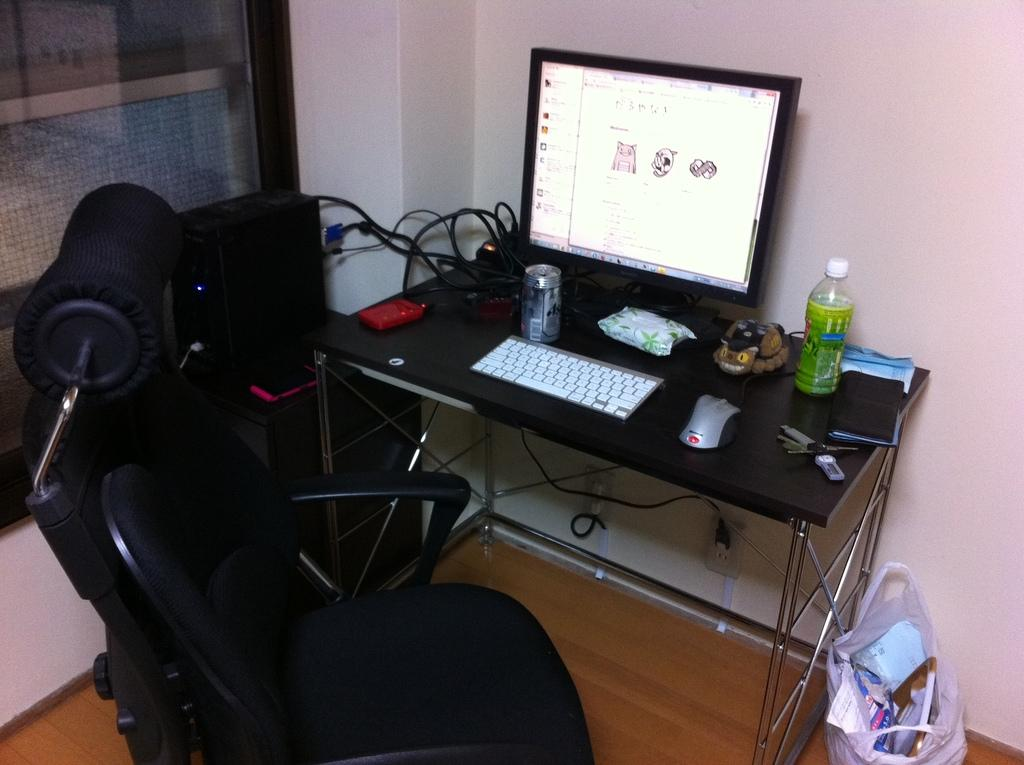Chair: (10, 181, 588, 764)
Computer-keyboard: (470, 339, 668, 423)
Computer-monitor: (503, 49, 793, 327)
